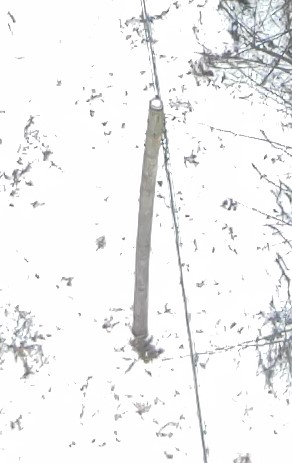pole: (95, 67, 226, 406)
